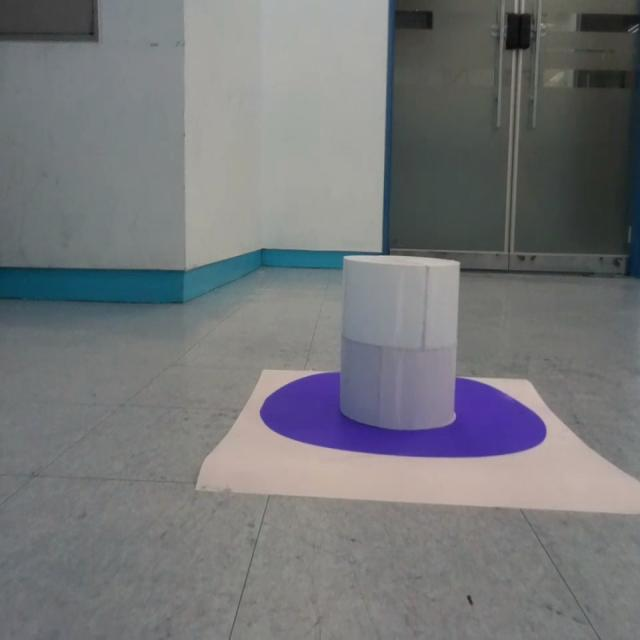cylinder: (340, 255, 461, 432)
